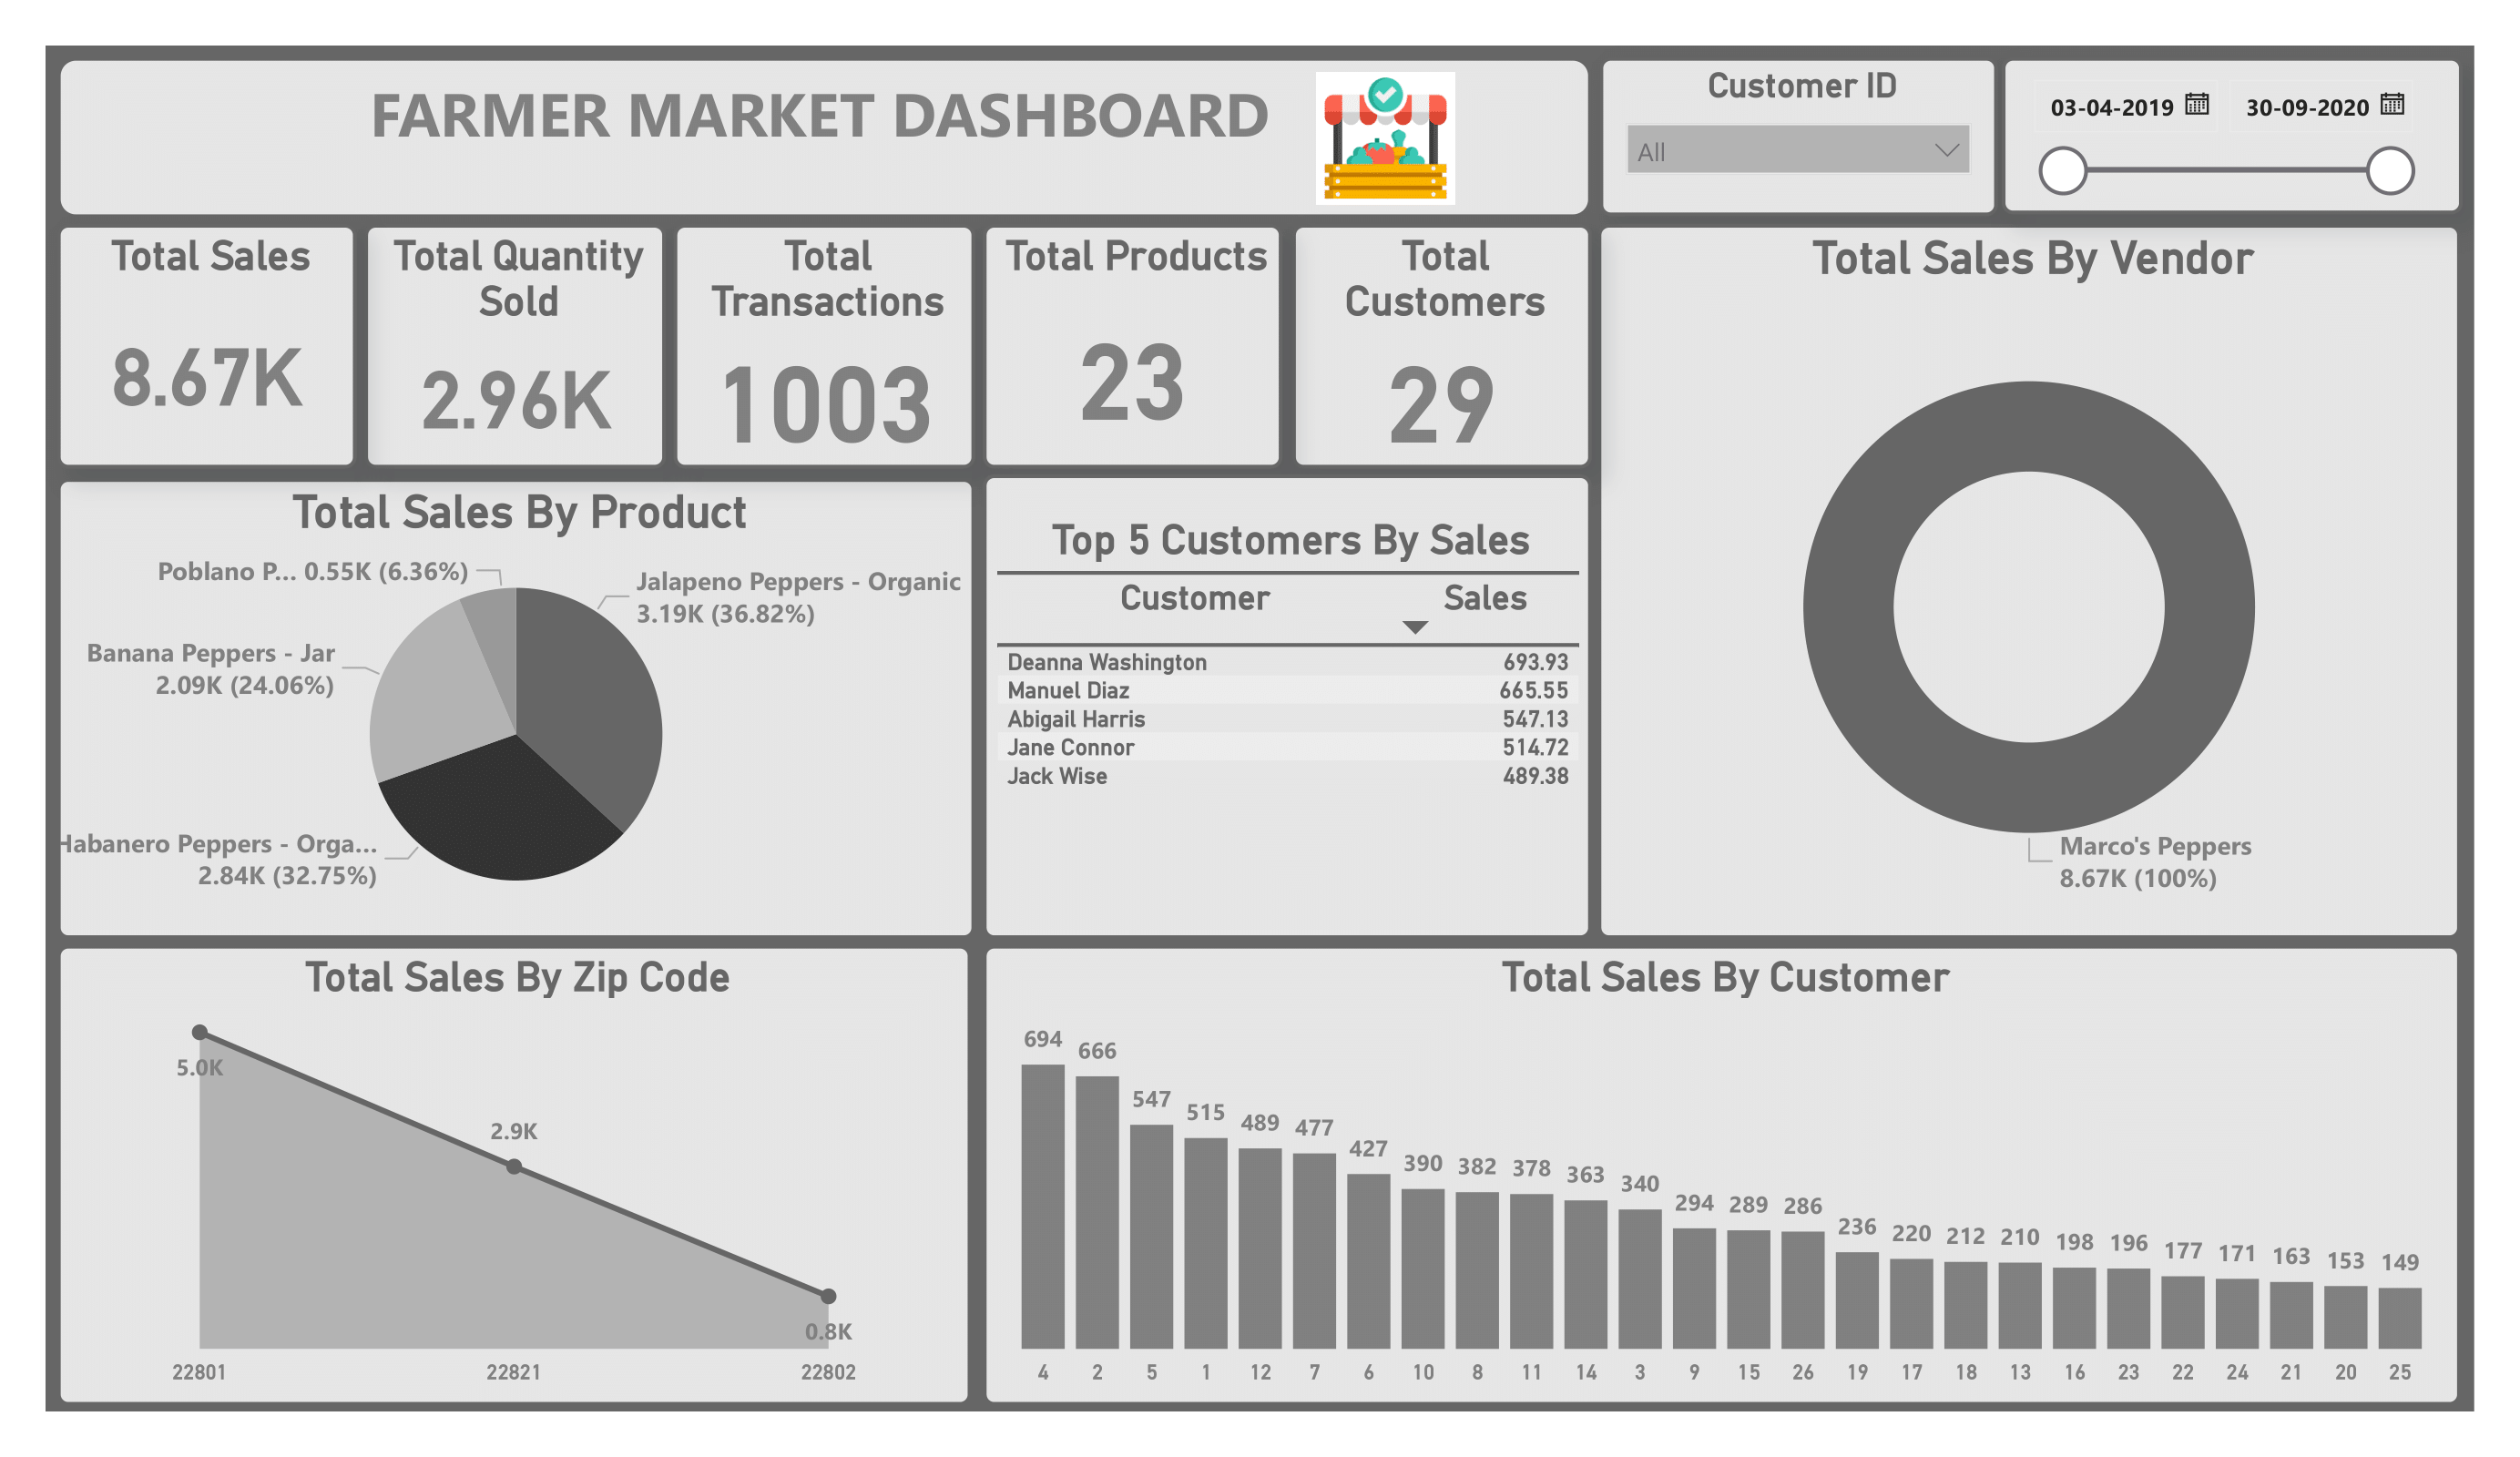

Layout of this report page (visuals, bound fields, positions):
{"tool":"powerbi","page":{"name":"Sales Wise Analysis","canvas":[1280,720],"ordinal":1},"visuals":[{"type":"columnChart","title":"Total Sales By Customer","fields":{"Category":["customer_purchases.customer_id"],"Y":["customer_purchases.Total_Sales"]},"box":[493.9,473.8,779,243.4],"z":0},{"type":"slicer","title":"Customer ID","fields":{"Values":["customer_purchases.customer_id"]},"box":[818.7,6,210,84.4],"z":1000},{"type":"areaChart","title":"Total Sales By Zip Code","fields":{"Category":["customer.customer_zip"],"Y":["customer_purchases.Total_Sales"]},"box":[5.8,473.8,482.4,243.4],"z":2000},{"type":"pieChart","title":"Total Sales By Product","fields":{"Category":["product.product_name"],"Y":["customer_purchases.Total_Sales"]},"box":[5.8,227.5,483.8,243.4],"z":3000},{"type":"donutChart","title":"Total Sales By Vendor","fields":{"Category":["vendor.vendor_name"],"Y":["customer_purchases.Total_Sales"]},"box":[817.9,93.6,455,377.3],"z":4000},{"type":"textbox","box":[5.8,5.8,809.3,85],"z":5000},{"type":"image","box":[656.6,8.6,99.4,80.6],"z":6000},{"type":"card","title":"Total Customers","fields":{"Values":["customer_purchases.customer_id"]},"box":[656.6,93.6,158.4,129.6],"z":7000},{"type":"card","title":"Total Quantity Sold","fields":{"Values":["customer_purchases.Total_Quantity"]},"box":[168.5,93.6,158.4,129.6],"z":8000},{"type":"card","title":"Total Sales","fields":{"Values":["customer_purchases.Total_Sales"]},"box":[5.8,93.6,158.4,129.6],"z":9000},{"type":"card","title":"Total Transactions","fields":{"Values":["customer_purchases.Total Transactions"]},"box":[331.2,93.6,158.4,129.6],"z":10000},{"type":"card","title":"Total Products","fields":{"Values":["product.product_name"]},"box":[493.9,93.6,158.4,129.6],"z":11000},{"type":"tableEx","title":"Top 5 Customers By Sales","fields":{"Values":["customer.Customer_name","customer_purchases.Total_Sales"]},"box":[493.9,226.1,321.1,244.8],"z":12000},{"type":"slicer","fields":{"Values":["customer_purchases.market_date"]},"box":[1031.2,6,242.7,82.9],"z":13000}]}

Visuals, with their boxes on the page's 1280x720 design canvas (x1, y1, x2, y2). These are canvas units, not pixel positions in the 2520x1457 screenshot, which may show the page scaled, cropped or inside an application window:
"Total Sales By Customer" columnChart: <bbox>494, 474, 1273, 717</bbox>
"Customer ID" slicer: <bbox>819, 6, 1029, 90</bbox>
"Total Sales By Zip Code" areaChart: <bbox>6, 474, 488, 717</bbox>
"Total Sales By Product" pieChart: <bbox>6, 228, 490, 471</bbox>
"Total Sales By Vendor" donutChart: <bbox>818, 94, 1273, 471</bbox>
textbox: <bbox>6, 6, 815, 91</bbox>
image: <bbox>657, 9, 756, 89</bbox>
"Total Customers" card: <bbox>657, 94, 815, 223</bbox>
"Total Quantity Sold" card: <bbox>168, 94, 327, 223</bbox>
"Total Sales" card: <bbox>6, 94, 164, 223</bbox>
"Total Transactions" card: <bbox>331, 94, 490, 223</bbox>
"Total Products" card: <bbox>494, 94, 652, 223</bbox>
"Top 5 Customers By Sales" tableEx: <bbox>494, 226, 815, 471</bbox>
slicer - customer_purchases.market_date: <bbox>1031, 6, 1274, 89</bbox>
